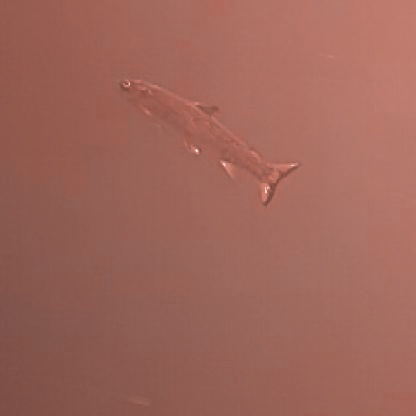salmon: (109, 70, 302, 206)
